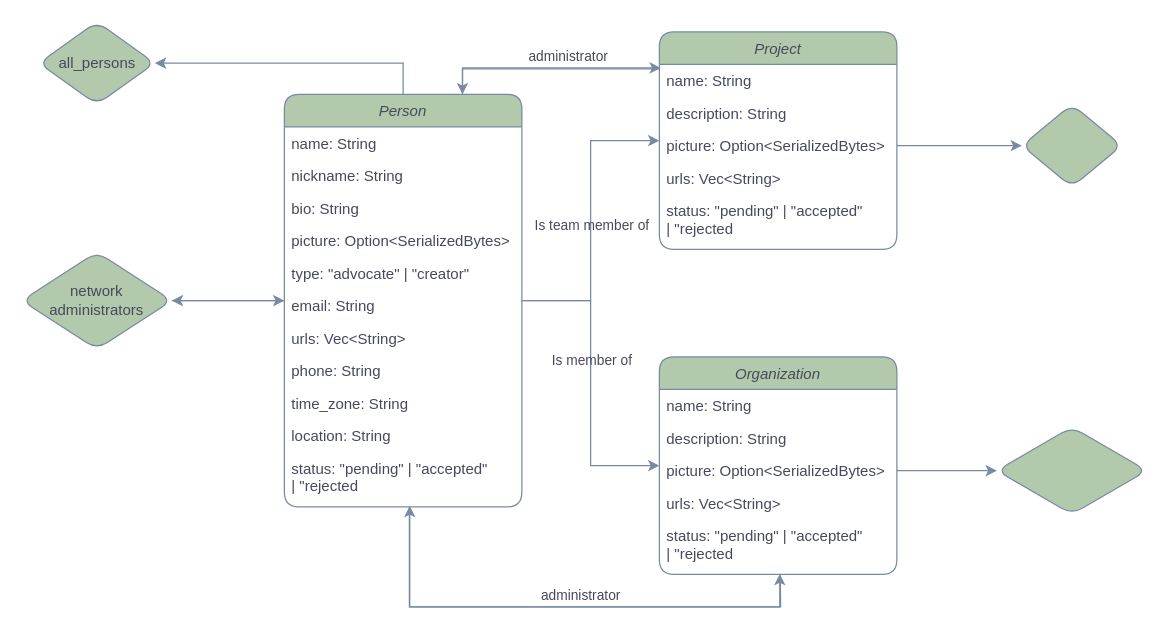
This 1169x639 diagram has some shape labels left out. Each missing label, with the centre of its shape:
"all_organizations" goes at [1071,470].
"all_projects" goes at [1071,145].
